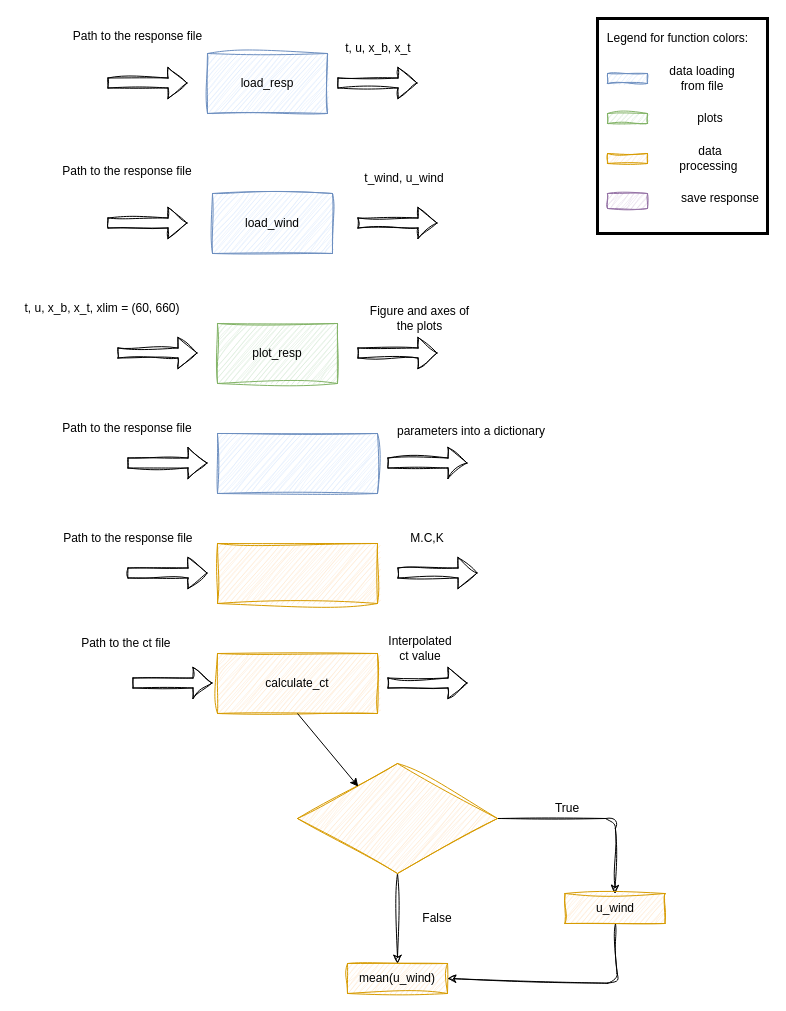
This 786x1011 diagram has some shape labels left out. Each missing label, with the centre of its shape:
get_turbie_system_matrices: the point at 297,573
if u_wind is an array, take the mean, if not take the value: the point at 397,818
load_turbie_parameters: the point at 297,463
